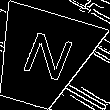N_S: (10, 29, 73, 89)
